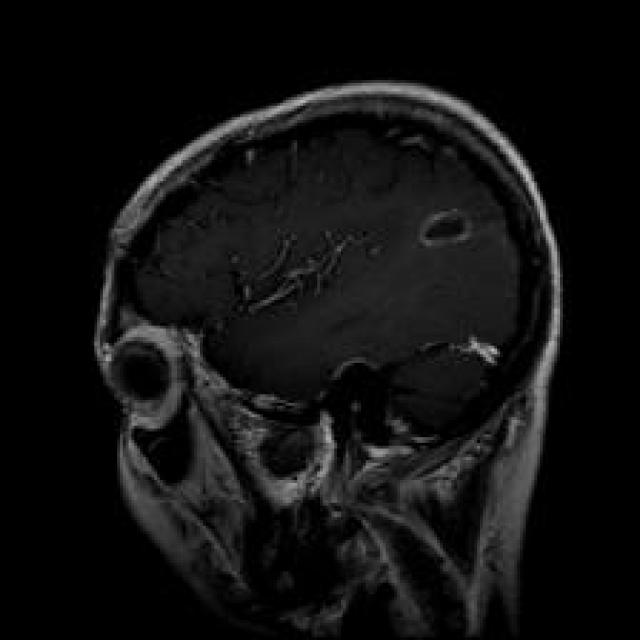glioma_tumor: (397, 194, 489, 260)
